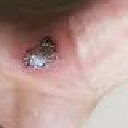Cellulitis: (19, 35, 60, 75)
